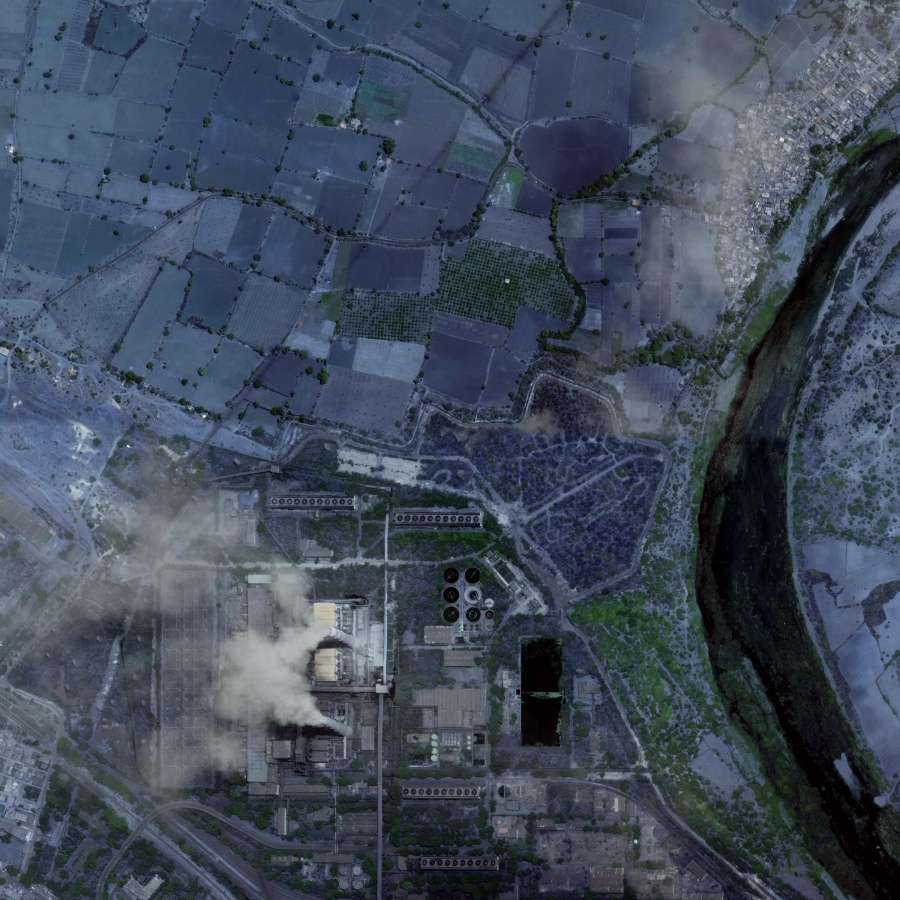PowerPlant: (163, 487, 435, 807)
